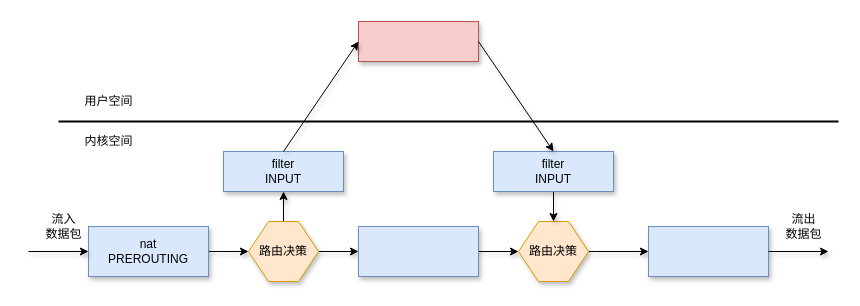
The diagram is 860 pixels wide and 306 high, and some of its shapes have lost their labels. The shapes that lost their labels are listed below. From the top down, each one's centre as x and y in pixels, then its label:
At point (419, 42): "本地套接字".
At point (419, 253): "filter FORWARD".
At point (709, 253): "nat POSTROUTING".
